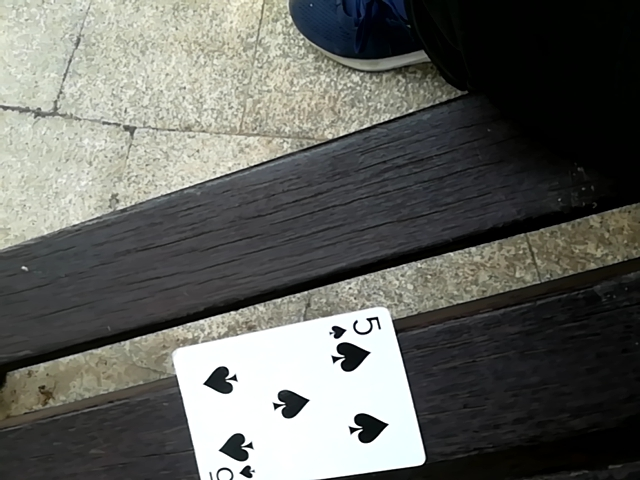ht 5: (170, 315, 438, 477)
